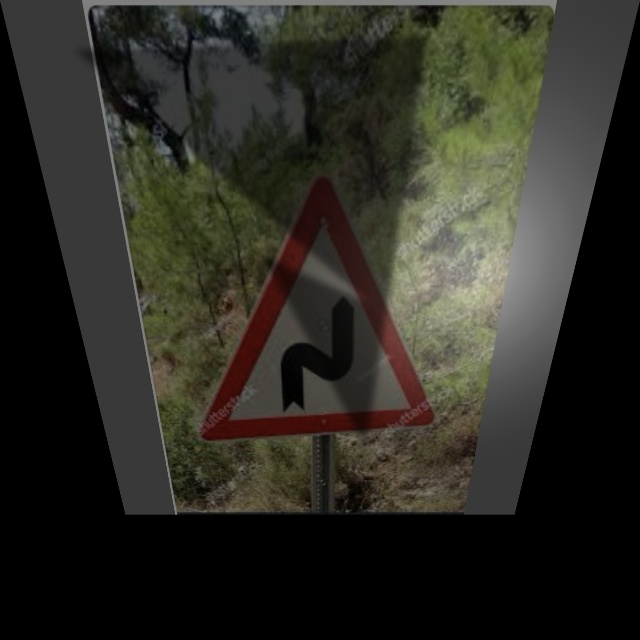Right_Reverse_Bend: (162, 174, 465, 428)
